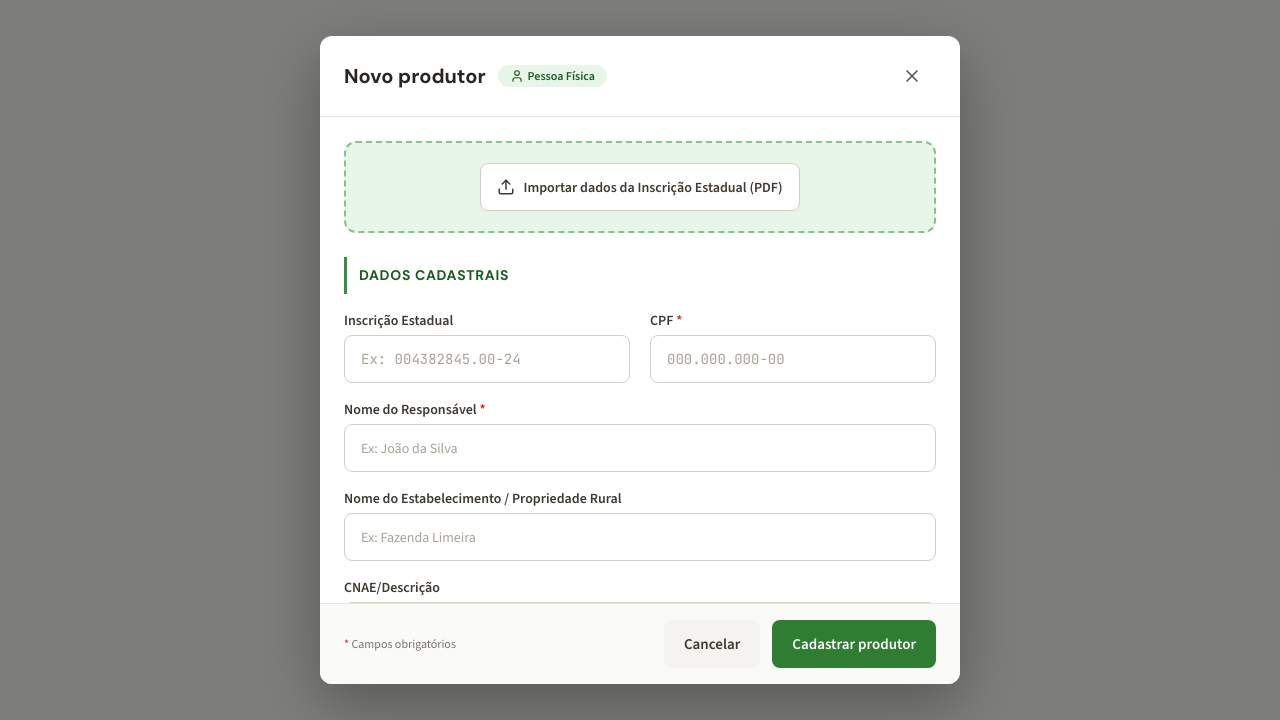
it: ProducerPFFormModal › should format CPF while typing
The image size is (1280, 720).
In the field labelled "CPF *": (793, 359) [650,335,936,383], type "12345678901"
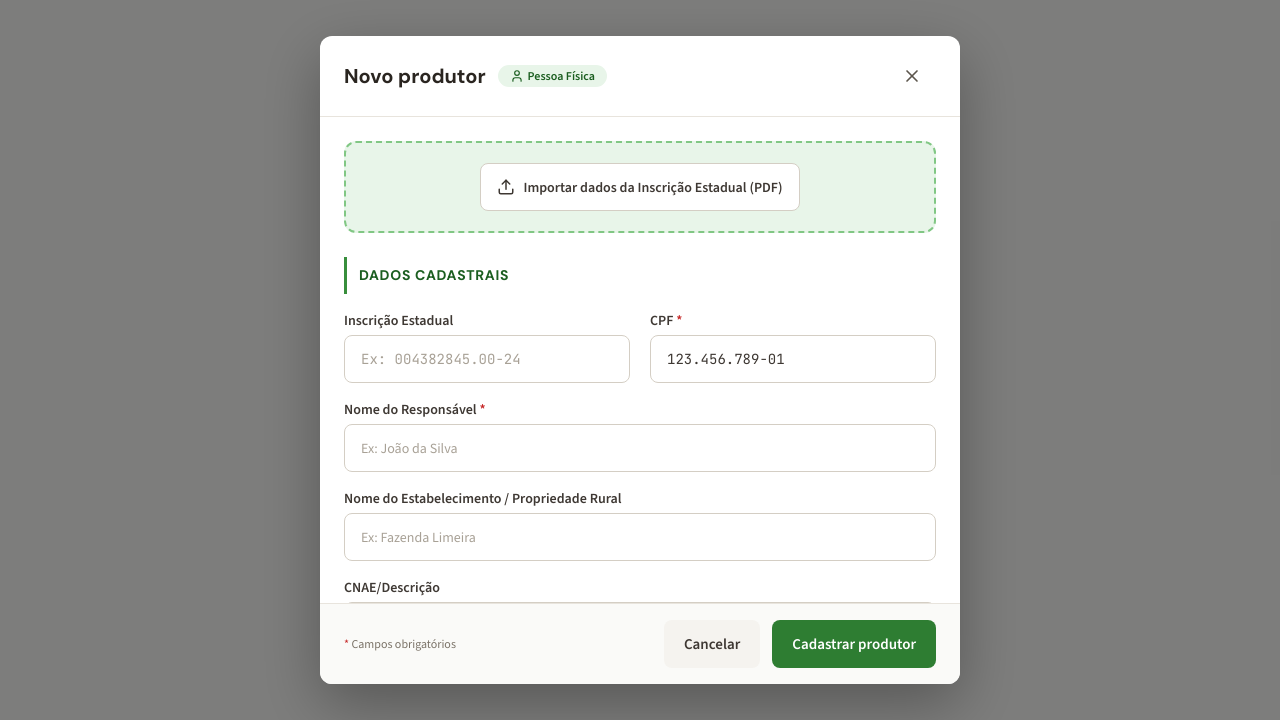
Expected: the field labelled "CPF *" holds "123.456.789-01", [650,335,936,383]
